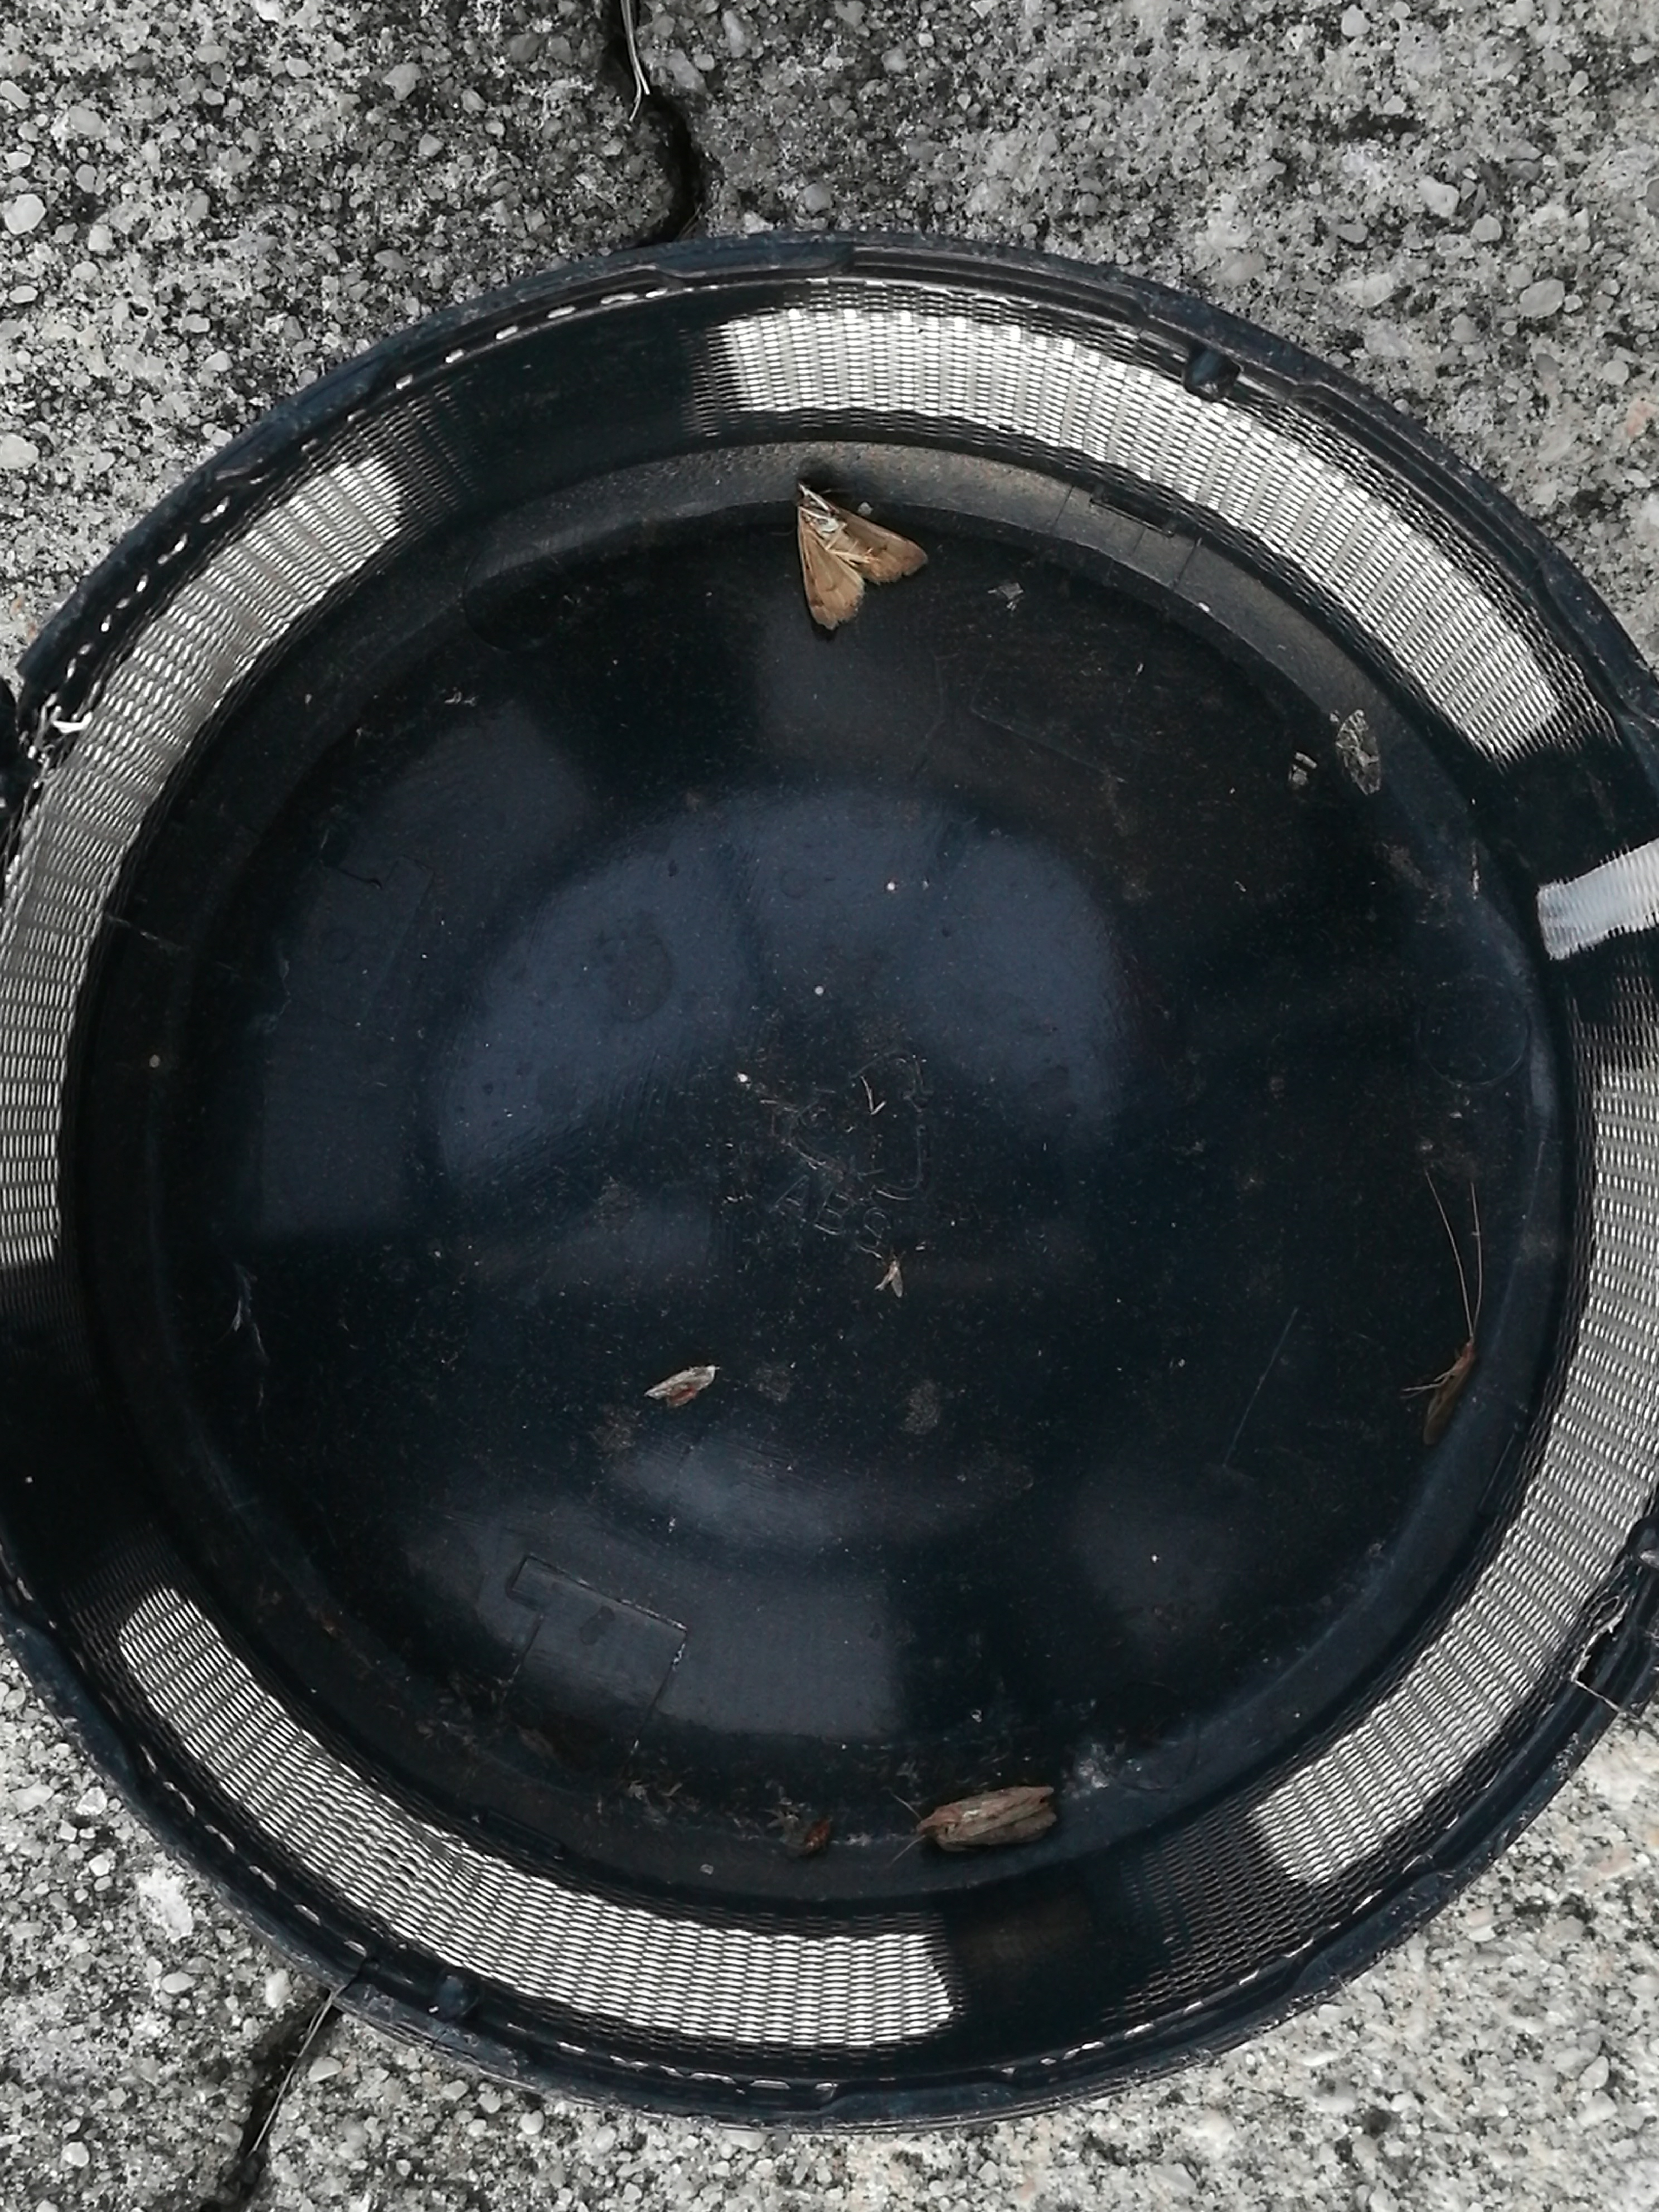mosquito: (1422, 1345, 1481, 1442)
moth: (795, 488, 927, 629), (929, 1789, 1060, 1846)
